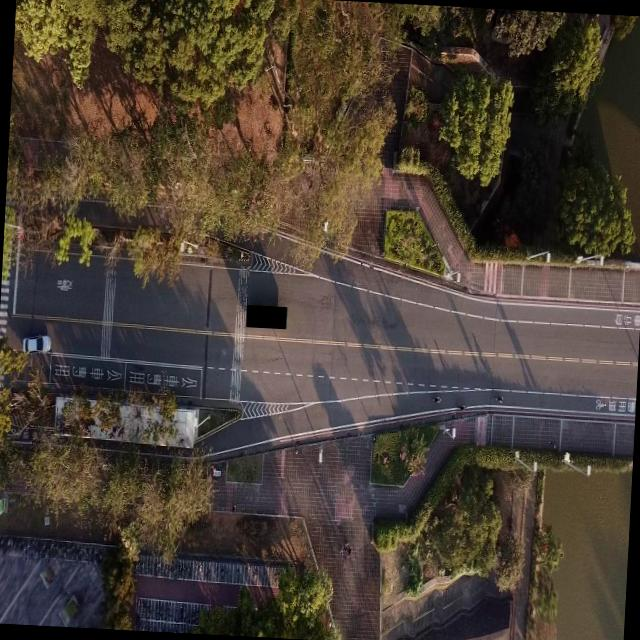car: (22, 334, 51, 354)
